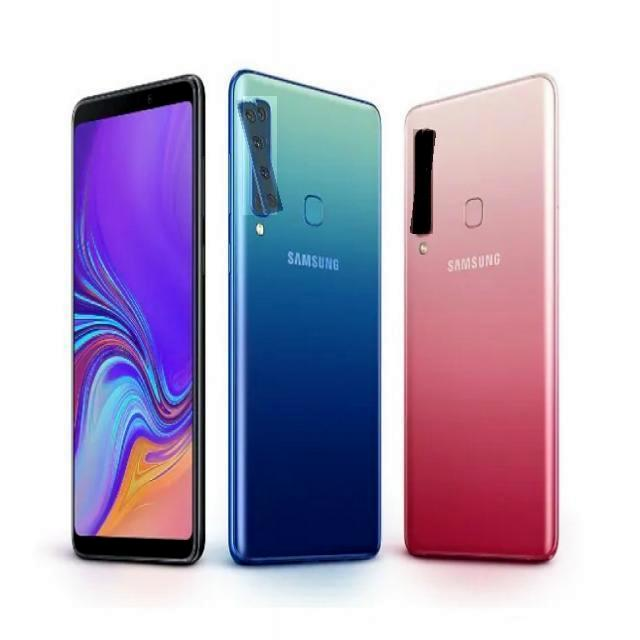lens_back: (246, 126, 274, 153), (255, 165, 283, 189), (238, 98, 264, 123)
phone: (398, 71, 563, 565), (225, 65, 383, 566), (67, 70, 210, 569)
